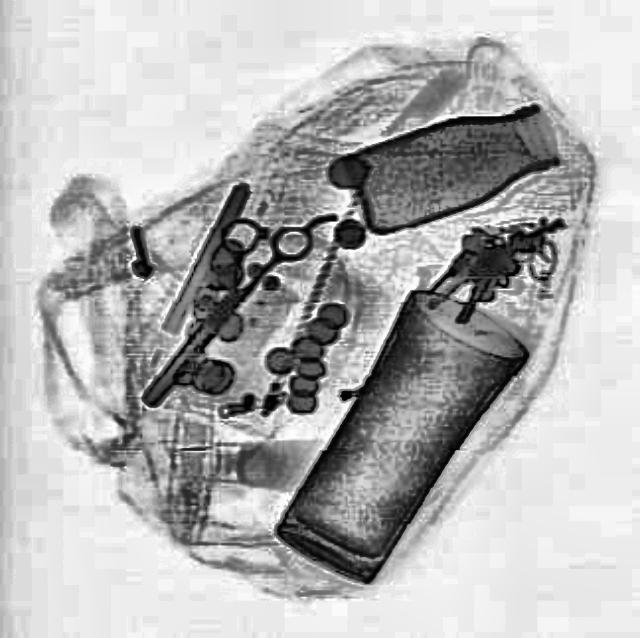Scissors: (185, 199, 317, 331)
